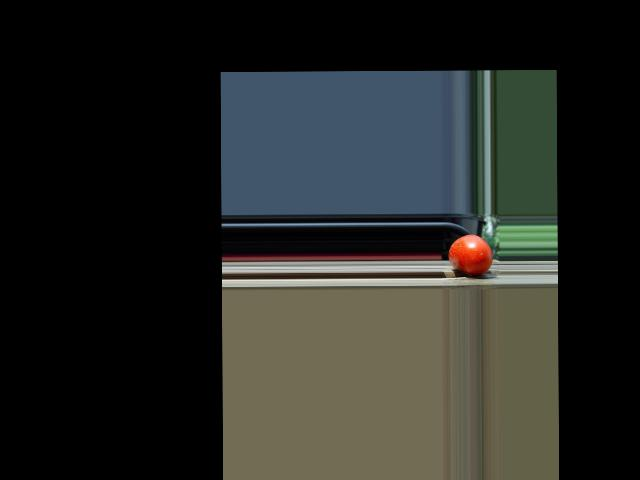tomato: (449, 234, 493, 274)
